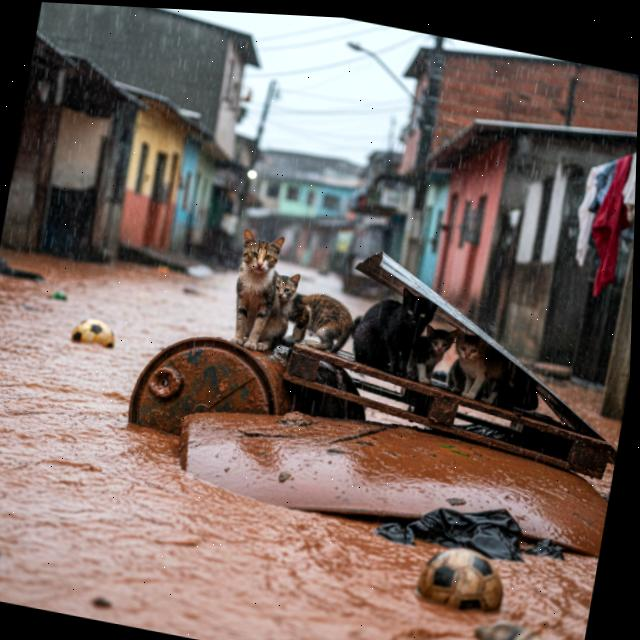cat: (214, 211, 300, 358), (259, 264, 364, 360), (348, 283, 442, 387), (431, 332, 521, 408), (405, 318, 455, 390), (439, 353, 474, 399)
